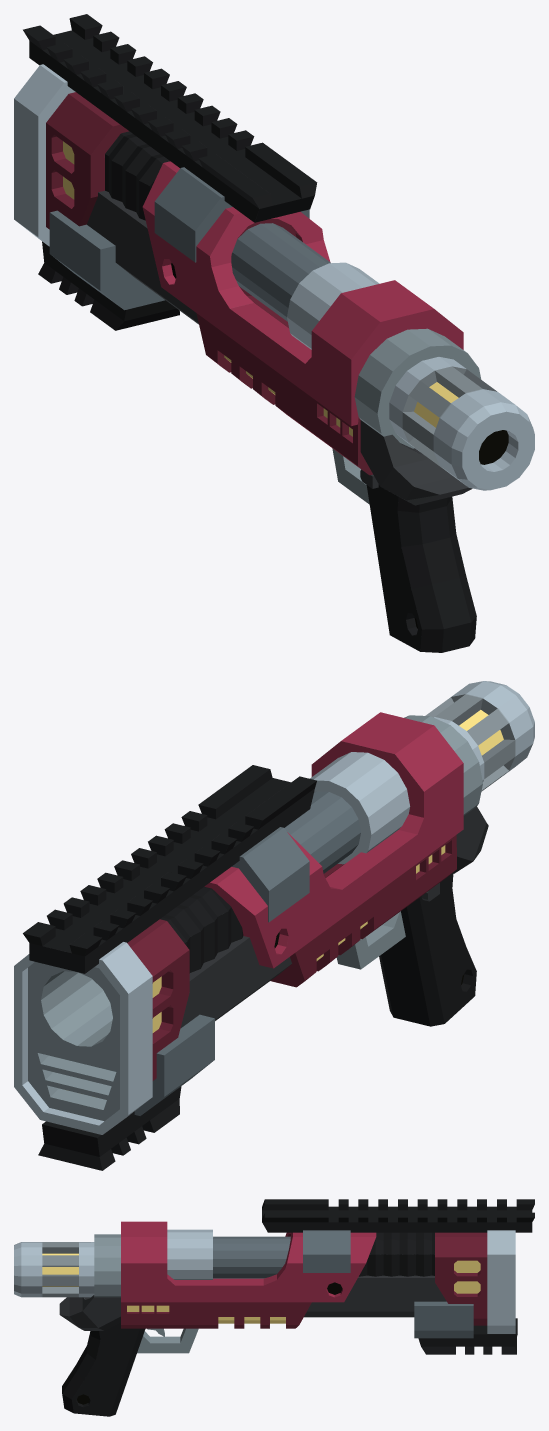
Rendered from sandanqiang.fbx.
3 views of the same model, one above another, from view 1: azimuth 30°, elevation 25°; view 2: azimuth 150°, elevation 25°; view 3: azimuth 270°, elevation 25° (orthographic). The views are drawn at different scales.
Visible parts, largest first — view 1: Energy_Cannon; view 2: Energy_Cannon; view 3: Energy_Cannon.
Part boxes in pixels (x1,y1,x2,y2): Energy_Cannon: (14, 14, 534, 652); Energy_Cannon: (14, 681, 534, 1170); Energy_Cannon: (14, 1199, 534, 1416).
Size of the model in its own units: 11.14 by 31.82 by 74.75.
Materials: 1 (1 with a texture image).
